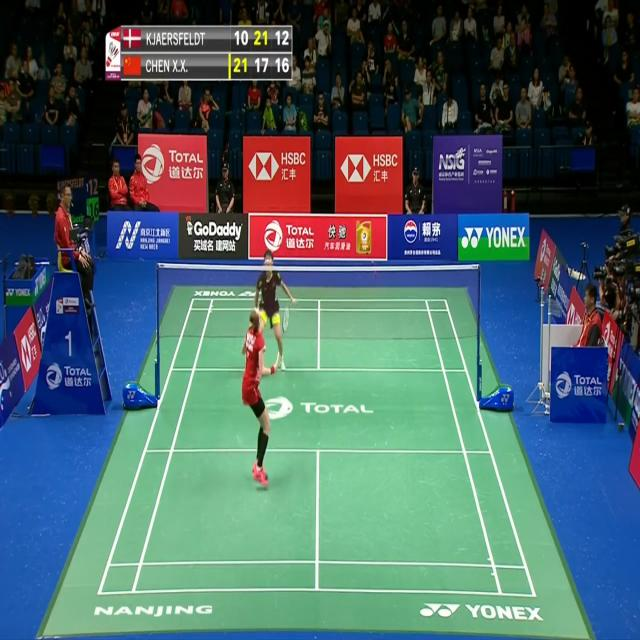Player1: (239, 302, 283, 490)
Player2: (252, 249, 300, 377)
